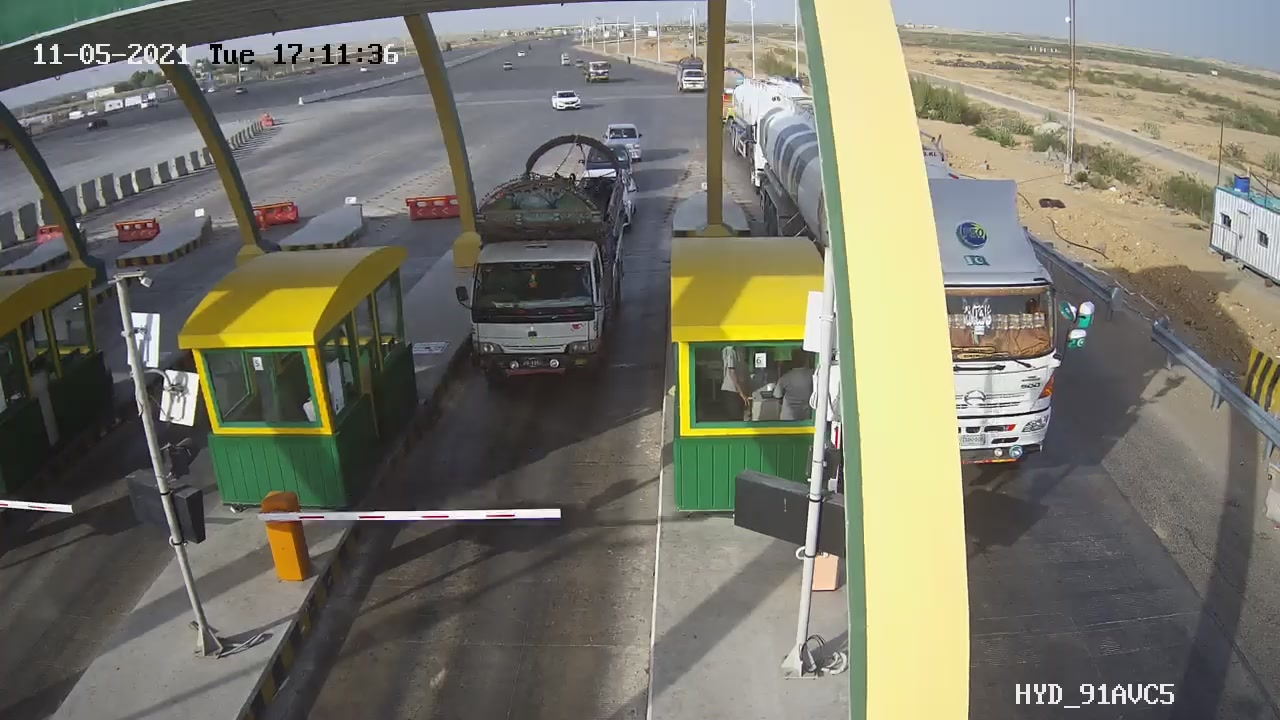F5: (447, 130, 638, 401)
